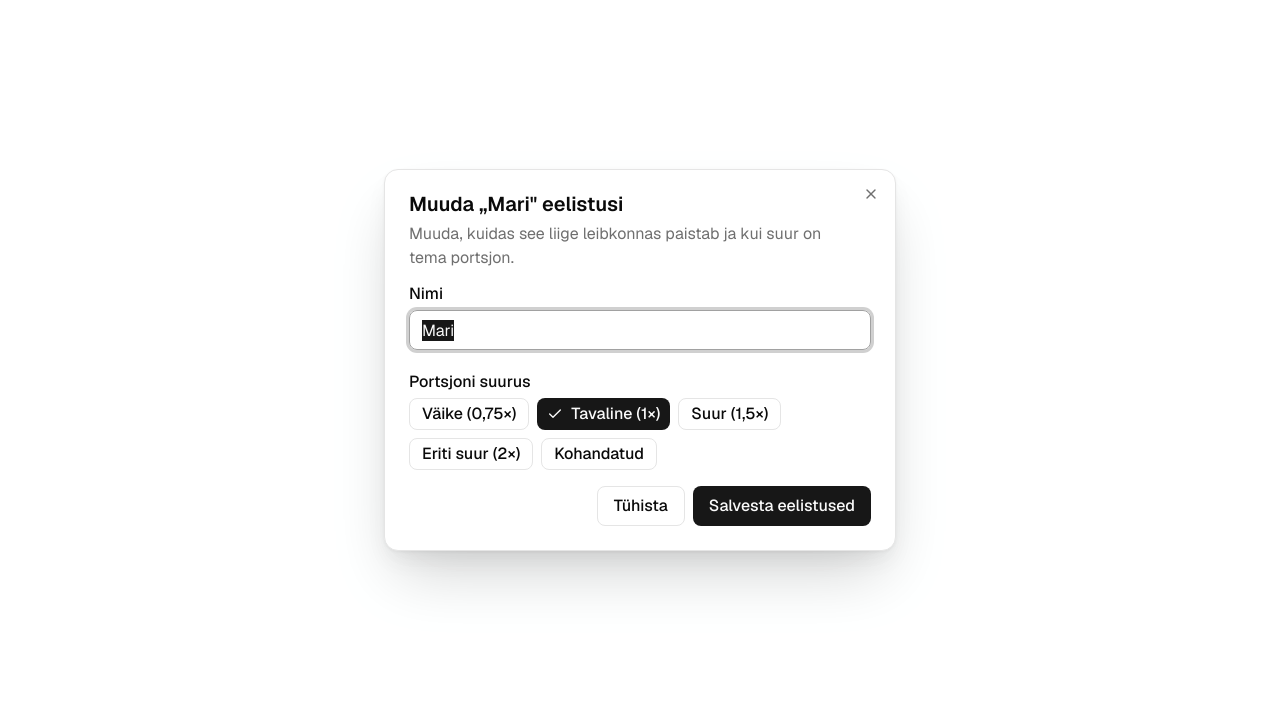
member dialogs in Estonian › EditMemberPreferencesDialog shows the Estonian failure, not the route error
What coordinates should you click on to do the following:
click the button "Salvesta eelistused"
I would click on:
 (782, 506)
Its box is [693, 486, 871, 526].
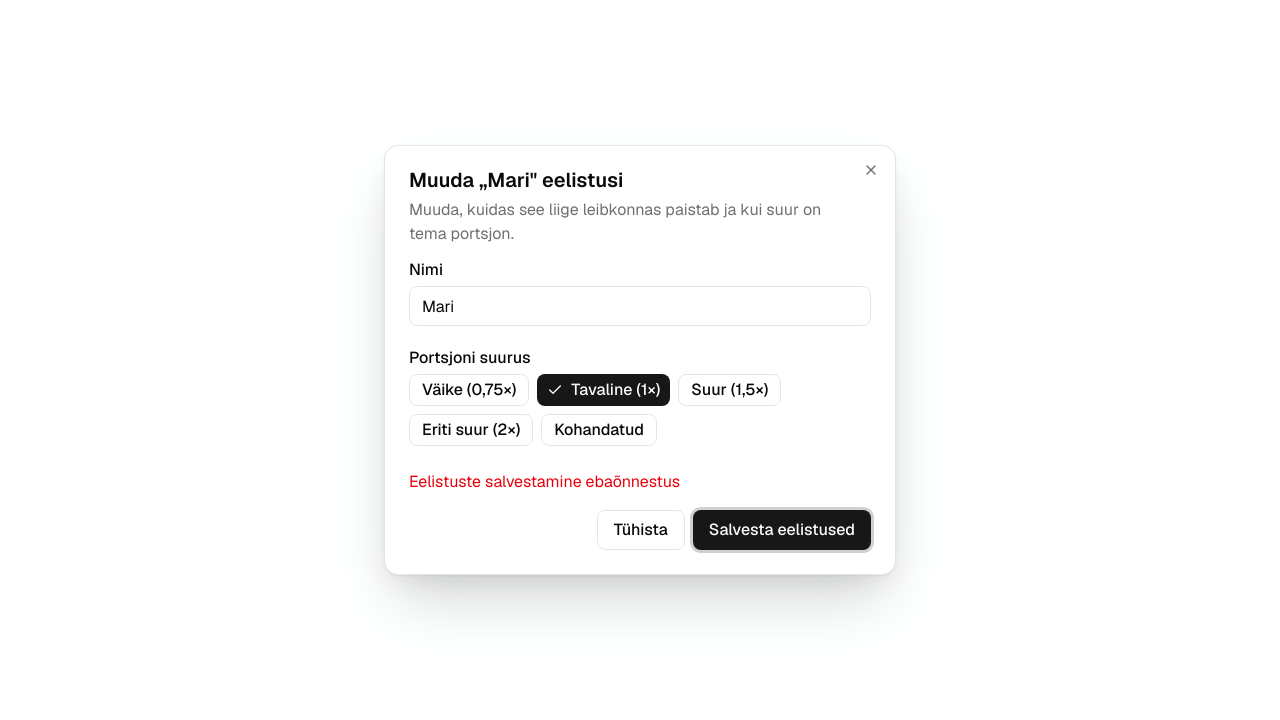
Check: the text "Eelistuste salvestamine ebaõnnestus" is shown, box [409, 471, 680, 492]
